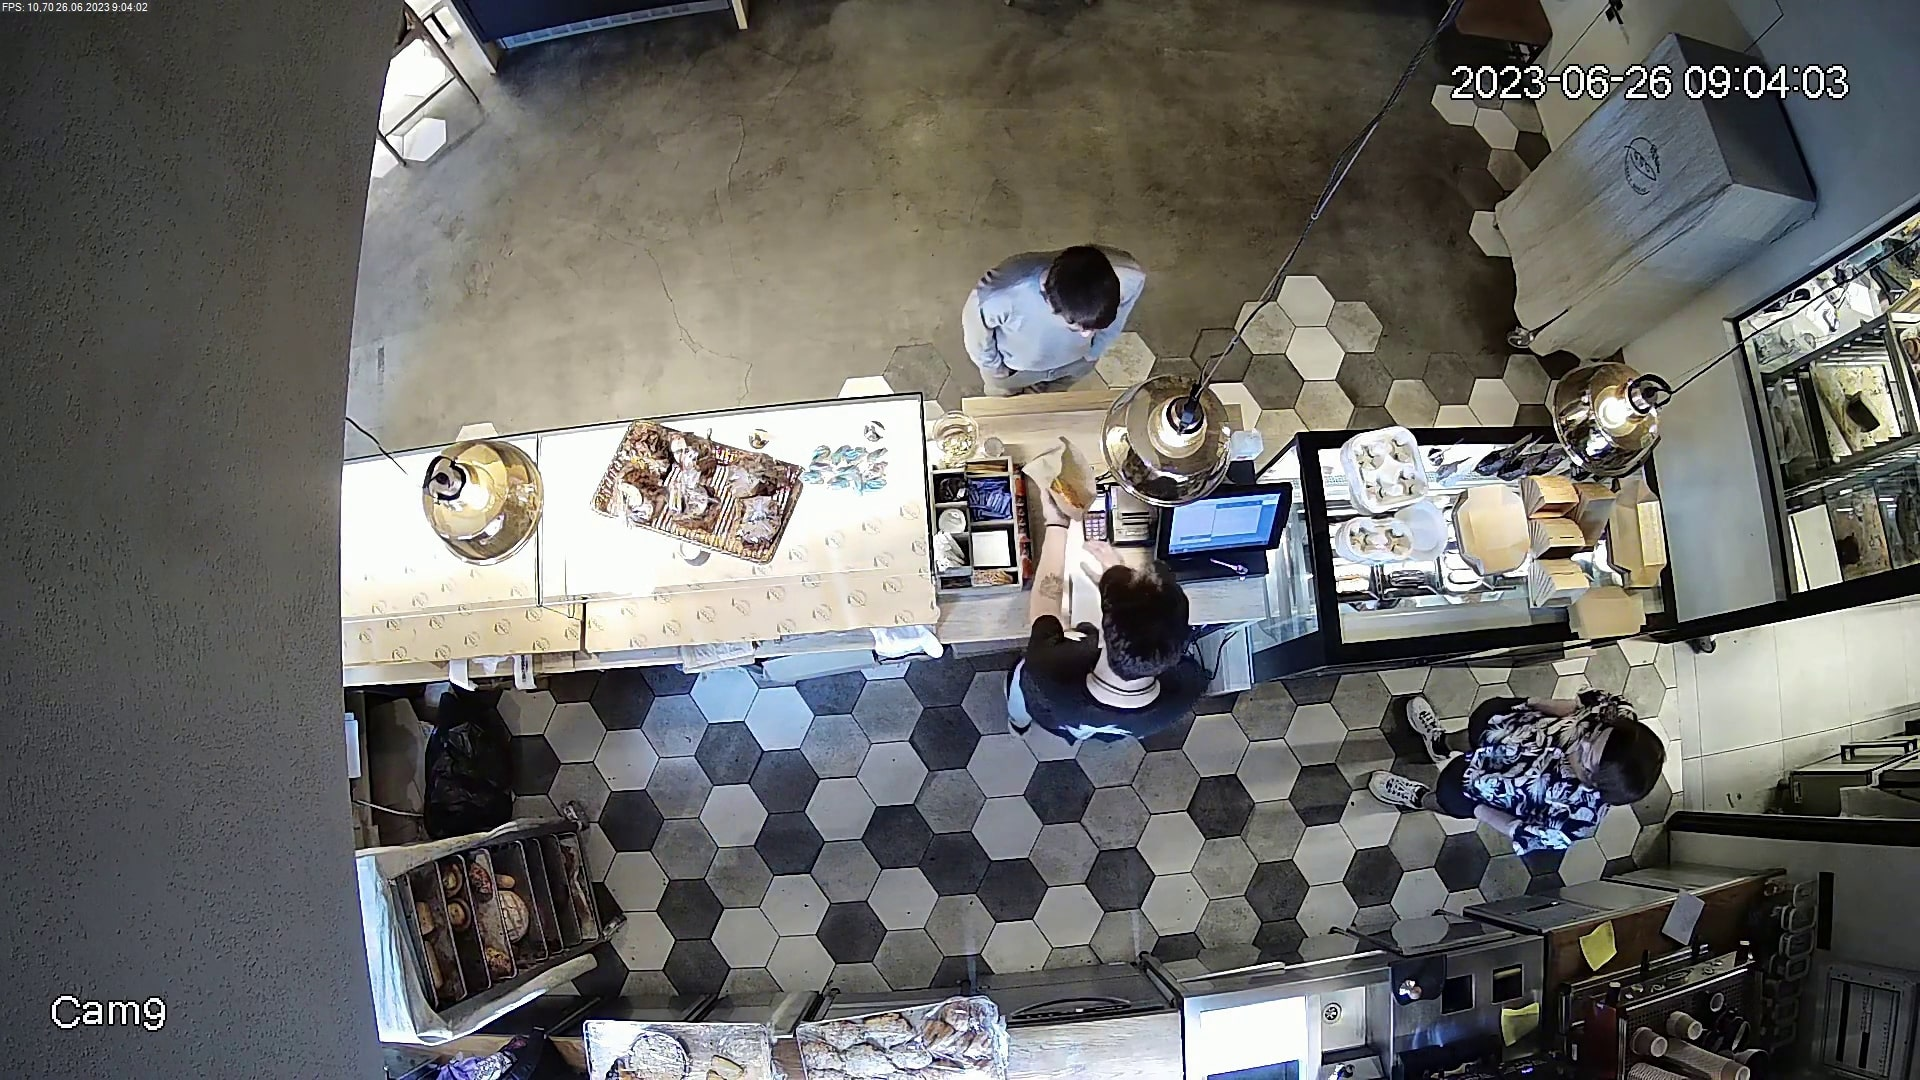barcounter: (346, 441, 1674, 668)
pack: (1017, 441, 1096, 519)
person: (1385, 680, 1700, 848), (974, 581, 1218, 744), (949, 236, 1145, 402)
